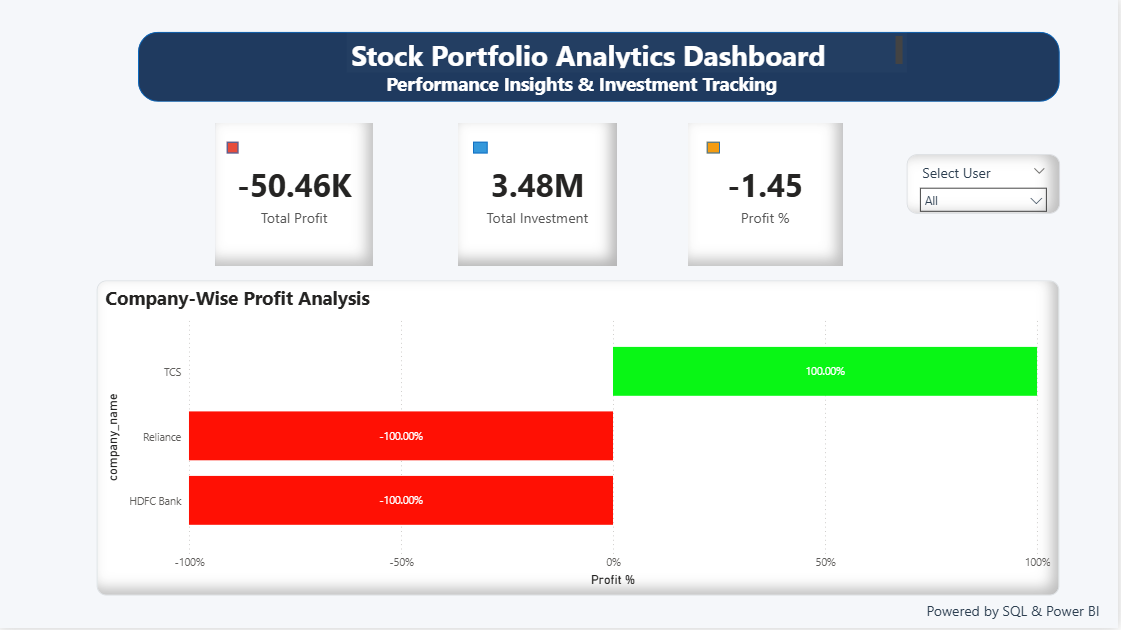

The page's visual inventory and layout, read from the dashboard file:
{"tool":"powerbi","page":{"name":"Page 1","canvas":[1280,720],"ordinal":0},"visuals":[{"type":"hundredPercentStackedBarChart","title":"Company-Wise Profit Analysis","fields":{"Y":["transactions.Profit %"],"Category":["stocks.company_name"]},"box":[113.3,323.3,1100,360],"z":0},{"type":"card","title":"Total Profit","fields":{"Values":["market_data.Profit"]},"box":[248.3,143.3,180,163.3],"z":1000},{"type":"card","fields":{"Values":["transactions.Investment"]},"box":[525,143.3,181.7,163.3],"z":2000},{"type":"card","fields":{"Values":["transactions.Profit %"]},"box":[788.3,143.3,176.7,163.3],"z":3000},{"type":"slicer","fields":{"Values":["users.name"]},"box":[1038.3,178.3,175,68.3],"z":4000},{"type":"shape","box":[261.7,165,13.3,13.3],"z":5000},{"type":"shape","box":[543.3,165,16.7,13.3],"z":6000},{"type":"shape","box":[810,165,15,13.3],"z":7000},{"type":"shape","box":[160,38.3,1053.3,80],"z":8000},{"type":"textbox","box":[398.3,38.3,640,46.7],"z":9000},{"type":"textbox","box":[438.3,78.3,470,48.3],"z":10000},{"type":"textbox","box":[1038.3,685,241.7,35],"z":11000}]}

Visuals, with their boxes in screenshot pixels (x1, y1, x2, y2), scaled from the page's 1280x720 canvas onto the 1121x630 screenshot:
"Company-Wise Profit Analysis" hundredPercentStackedBarChart: l=99, t=283, r=1063, b=598
"Total Profit" card: l=217, t=125, r=375, b=268
card - transactions.Investment: l=460, t=125, r=619, b=268
card - transactions.Profit %: l=690, t=125, r=845, b=268
slicer - users.name: l=909, t=156, r=1063, b=216
shape: l=229, t=144, r=241, b=156
shape: l=476, t=144, r=490, b=156
shape: l=709, t=144, r=723, b=156
shape: l=140, t=34, r=1063, b=104
textbox: l=349, t=34, r=909, b=74
textbox: l=384, t=69, r=795, b=111
textbox: l=909, t=599, r=1120, b=629
